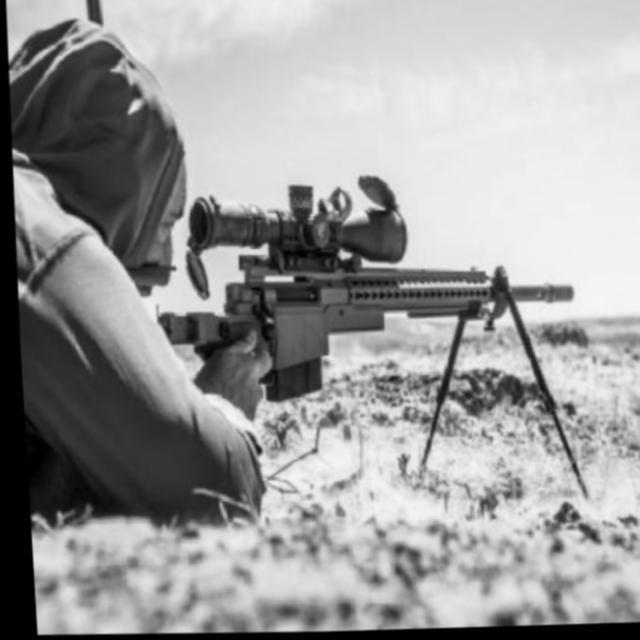weapon: (137, 167, 588, 512)
